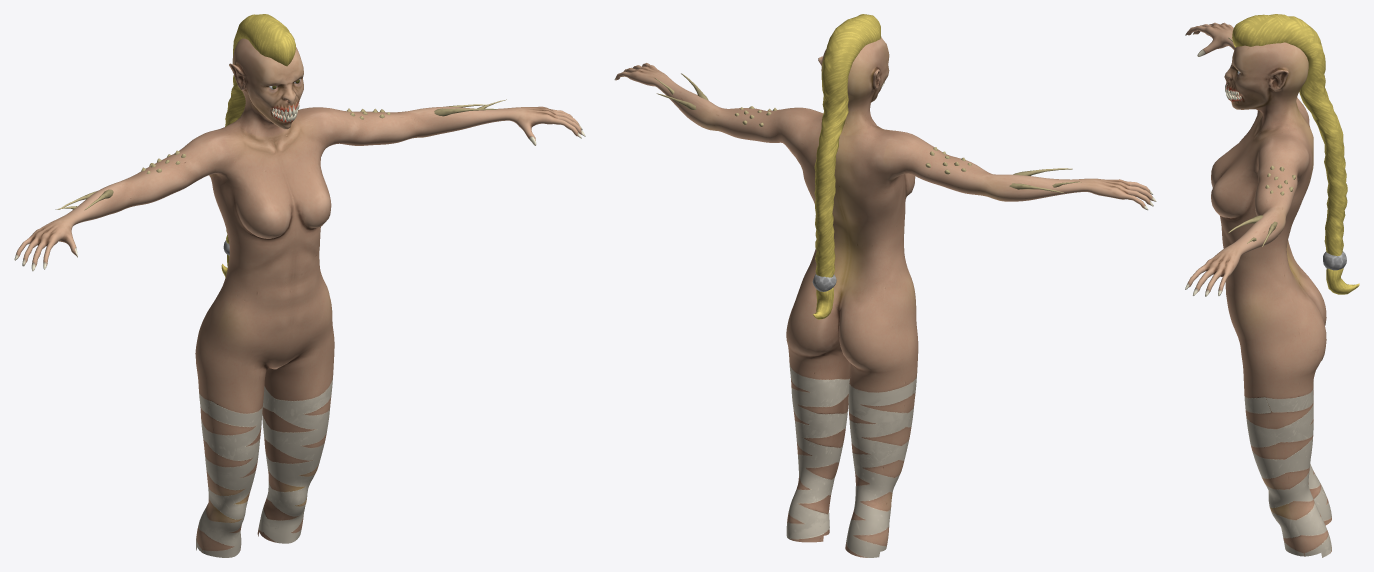
File: Lina_Fixed.fbx
3 views of the same model, side by side, from view 1: azimuth 30°, elevation 25°; view 2: azimuth 150°, elevation 25°; view 3: azimuth 270°, elevation 25° (orthographic). The views are drawn at different scales.
Visible parts, largest first — view 1: body_low, hair_low; view 2: body_low, hair_low; view 3: body_low, hair_low.
Part boxes in pixels (box(x1,y1,x2,y2)): body_low: box(14, 38, 585, 557); hair_low: box(221, 14, 295, 277); body_low: box(614, 37, 1156, 557); hair_low: box(812, 14, 881, 319); body_low: box(1185, 22, 1331, 557); hair_low: box(1232, 14, 1359, 294).
Bounding box in the file's own units: 159 × 145 × 44.03.
